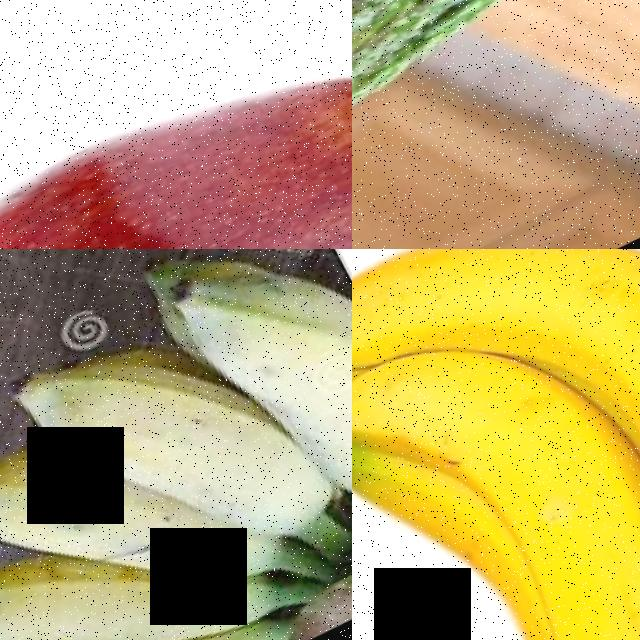apple: (0, 0, 352, 249)
asparagus: (352, 0, 640, 129)
banana: (352, 249, 640, 640), (147, 249, 352, 557), (0, 307, 209, 493), (0, 417, 91, 587), (0, 536, 129, 640), (0, 601, 268, 640)
